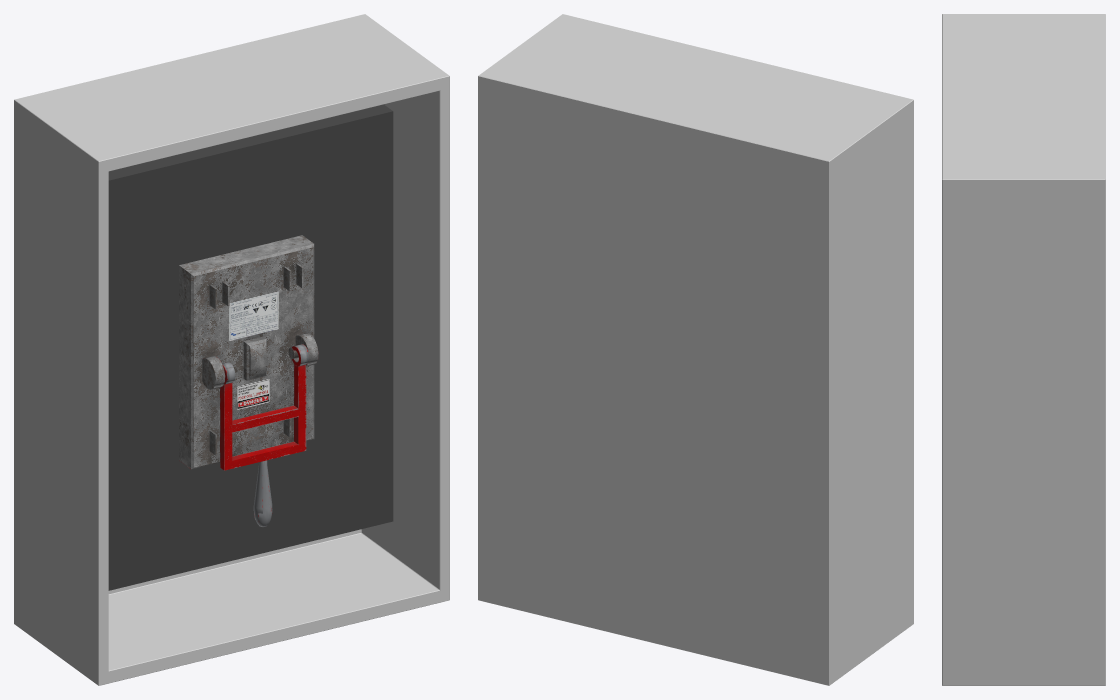
Rendered from Generator.fbx.
The picture shows the model from 3 angles, left to right: view 1: azimuth 30°, elevation 25°; view 2: azimuth 150°, elevation 25°; view 3: azimuth 270°, elevation 25°; orthographic projection. The views are drawn at different scales.
Visible parts, largest first — view 1: GeneratorContainer, Generator, GeneratorSwitchContainer, GeneratorSwitch; view 2: GeneratorContainer; view 3: GeneratorContainer.
Boxes of the visible parts, x1=… form: GeneratorContainer: x1=14, y1=14, x2=449, y2=685; Generator: x1=108, y1=104, x2=393, y2=590; GeneratorSwitchContainer: x1=179, y1=235, x2=318, y2=469; GeneratorSwitch: x1=220, y1=344, x2=309, y2=526; GeneratorContainer: x1=478, y1=14, x2=913, y2=685; GeneratorContainer: x1=942, y1=14, x2=1105, y2=685.
Size of the model in its own units: 0.8838 by 1.26 by 0.3691.
3 materials, 1 textured.
